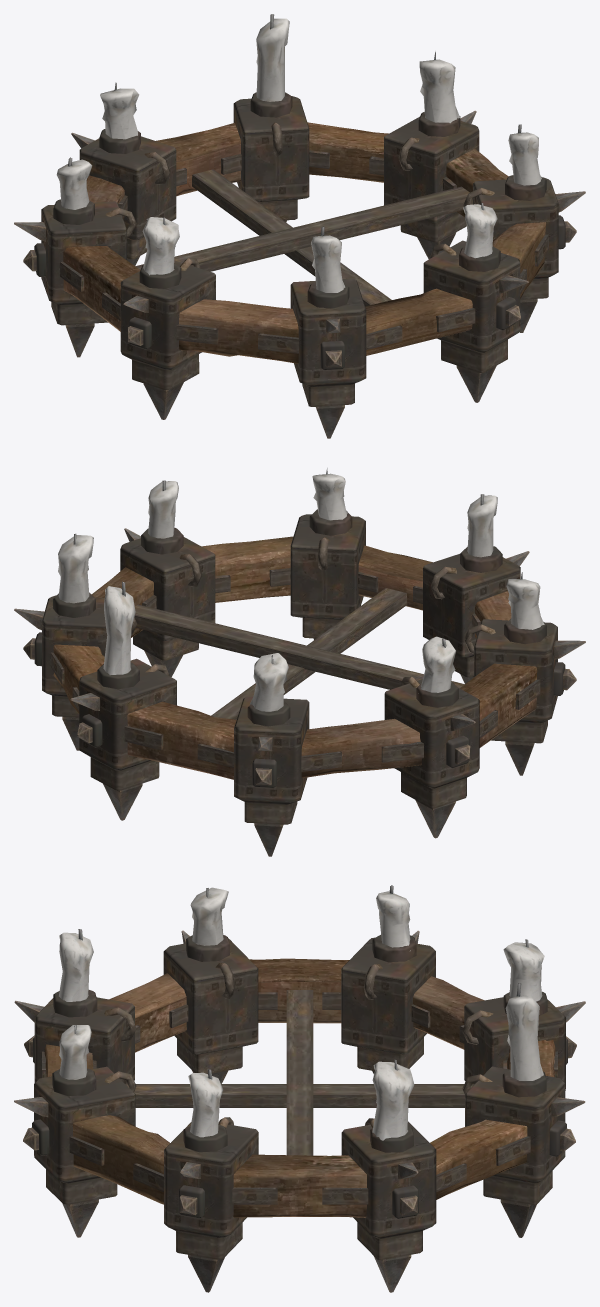
3 renders of one model, top to bottom at view 1: azimuth 30°, elevation 25°; view 2: azimuth 150°, elevation 25°; view 3: azimuth 270°, elevation 25°, orthographic. The views are drawn at different scales.
Visible parts, largest first — view 1: SM_DR_Chandelier_Pillar_01_LOD0; view 2: SM_DR_Chandelier_Pillar_01_LOD0; view 3: SM_DR_Chandelier_Pillar_01_LOD0.
Part boxes in pixels (x1,y1,x2,y2): SM_DR_Chandelier_Pillar_01_LOD0: [14, 14, 585, 438]; SM_DR_Chandelier_Pillar_01_LOD0: [14, 468, 585, 856]; SM_DR_Chandelier_Pillar_01_LOD0: [14, 885, 585, 1292].
Size of the model in its own units: 0.9969 by 0.4882 by 0.9969.
4 materials, 4 textured.
